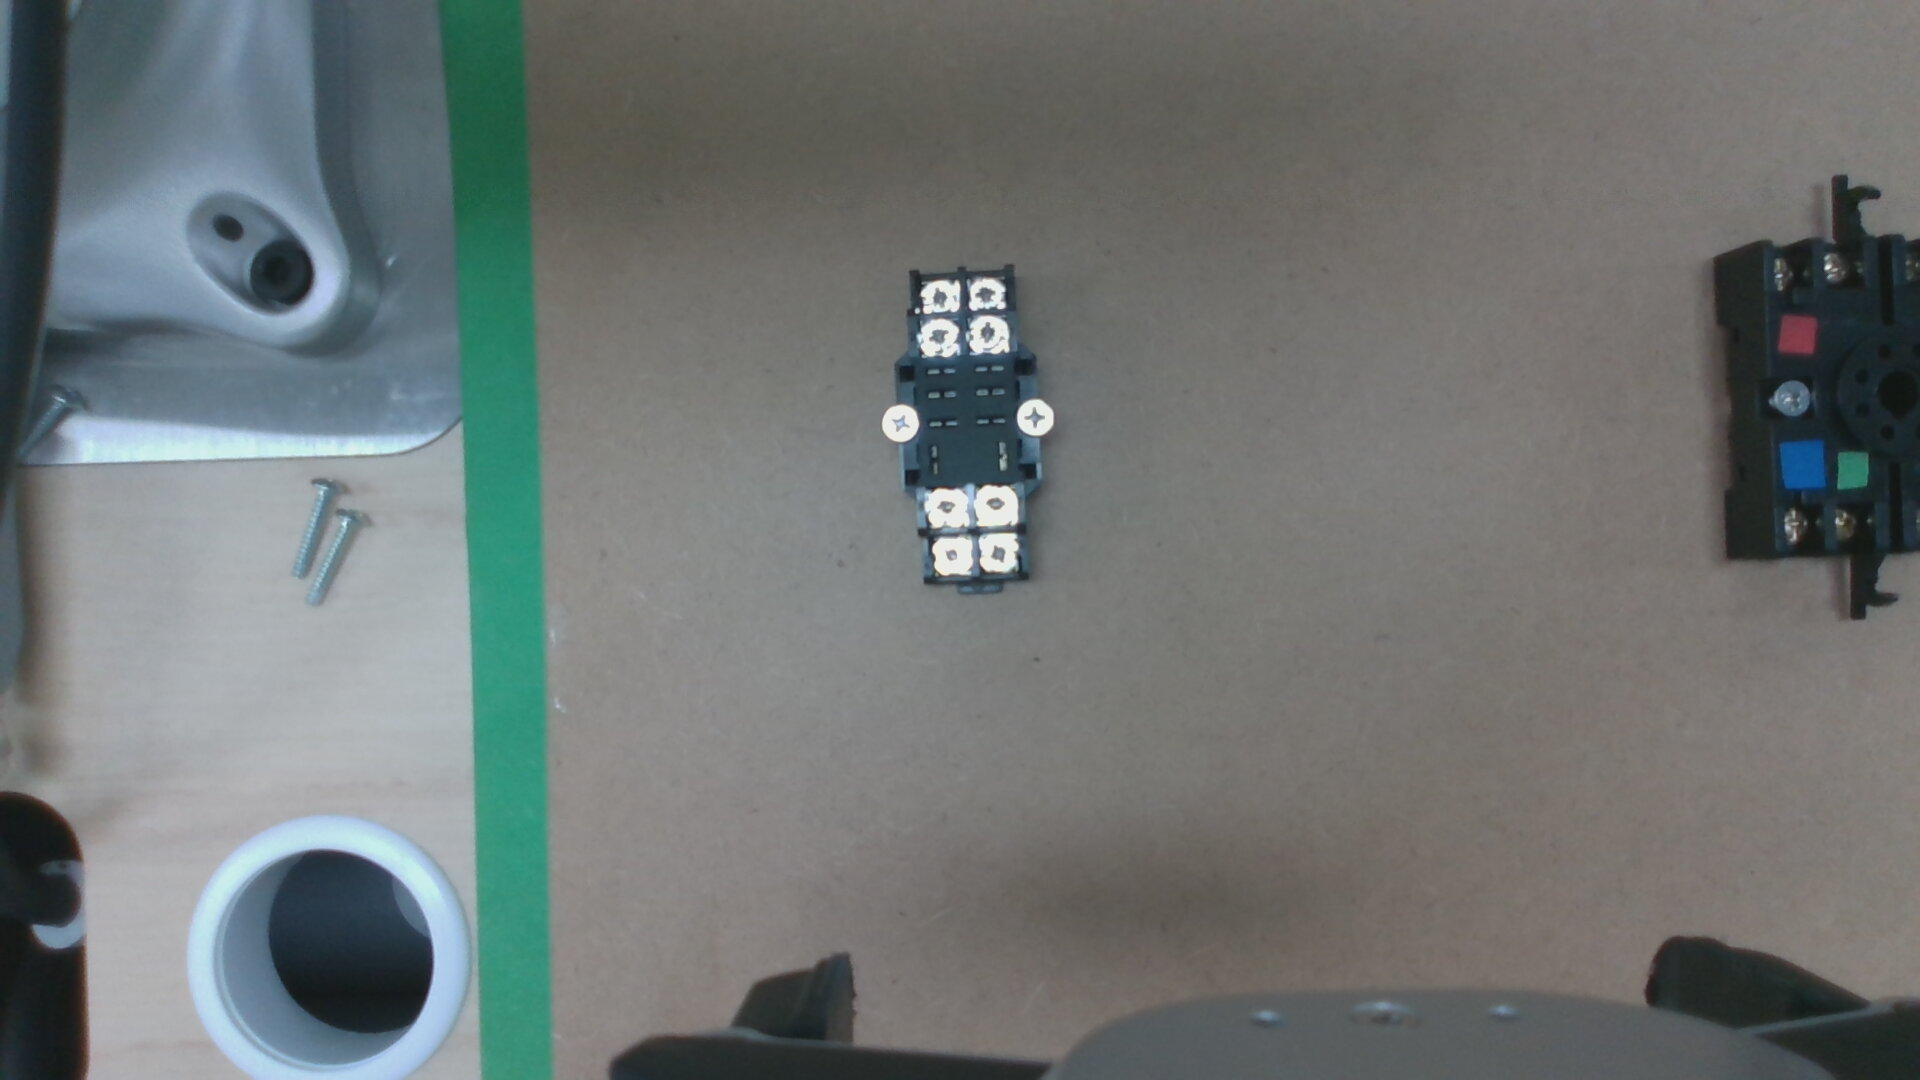relay 3: (967, 277, 1004, 307)
relay 4: (916, 280, 957, 313)
relay 5: (977, 535, 1019, 570)
relay 6: (931, 539, 971, 574)
relay 7: (976, 487, 1017, 525)
relay 8: (926, 491, 967, 525)
